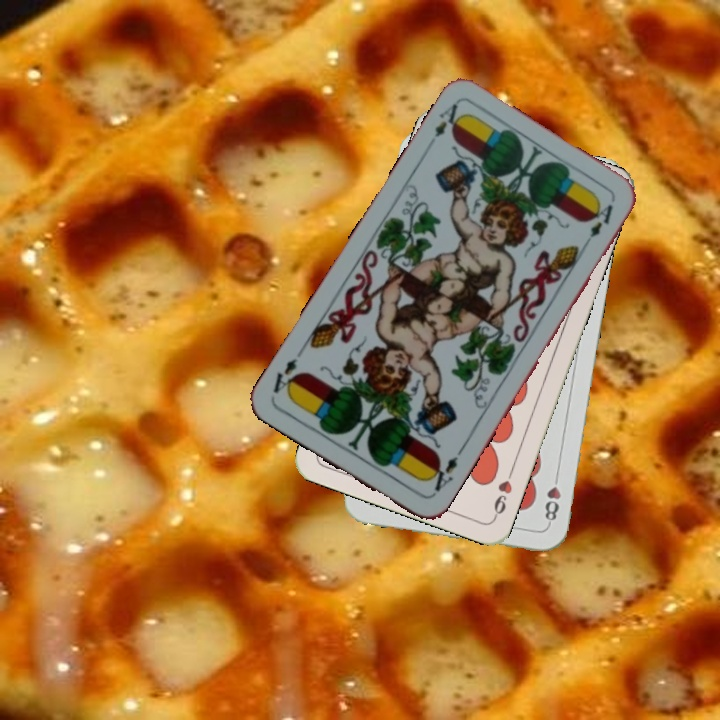EA: (424, 445, 465, 495), (430, 99, 467, 140)
H8: (540, 469, 563, 527)
H9: (489, 463, 517, 521)
